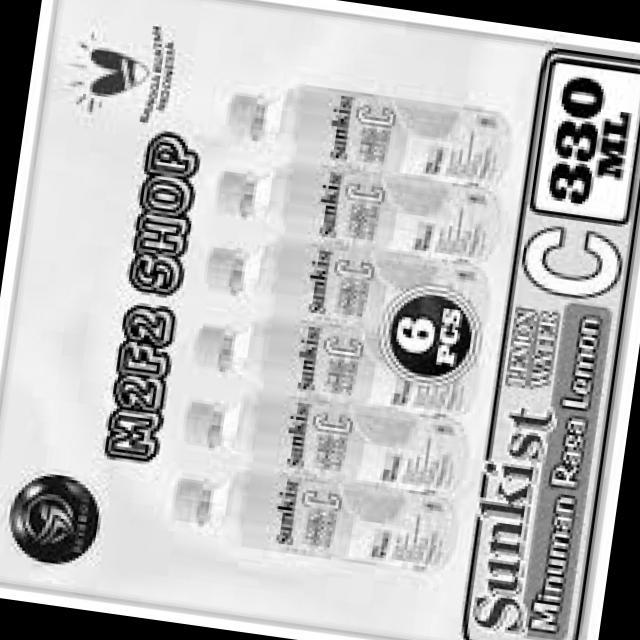good: (167, 438, 470, 591), (212, 48, 524, 196), (203, 210, 512, 350), (180, 372, 479, 511), (187, 295, 491, 425), (202, 142, 496, 271)
